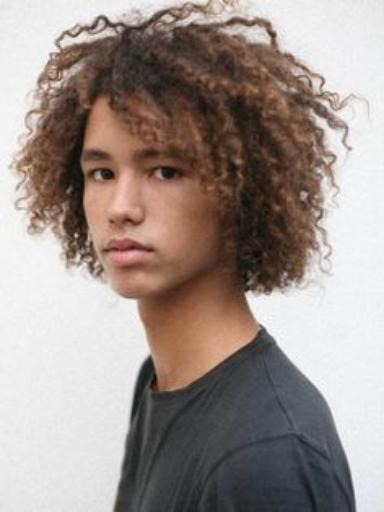left_eye: (146, 165, 188, 186)
left_lip_corner: (146, 242, 161, 259)
right_eye: (87, 167, 118, 186)
right_lip_corner: (101, 243, 115, 261)
